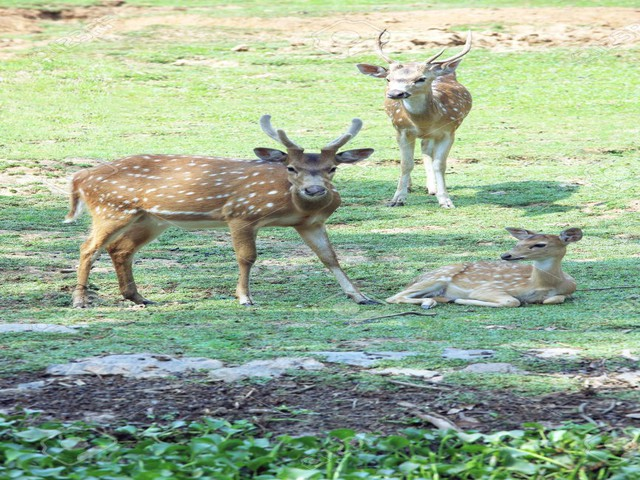deer: (56, 116, 383, 312), (355, 23, 487, 211), (386, 212, 591, 313)
